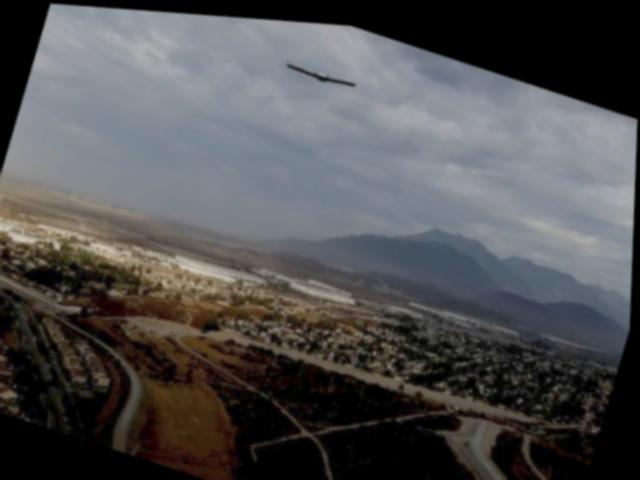iha: (283, 50, 361, 92)
